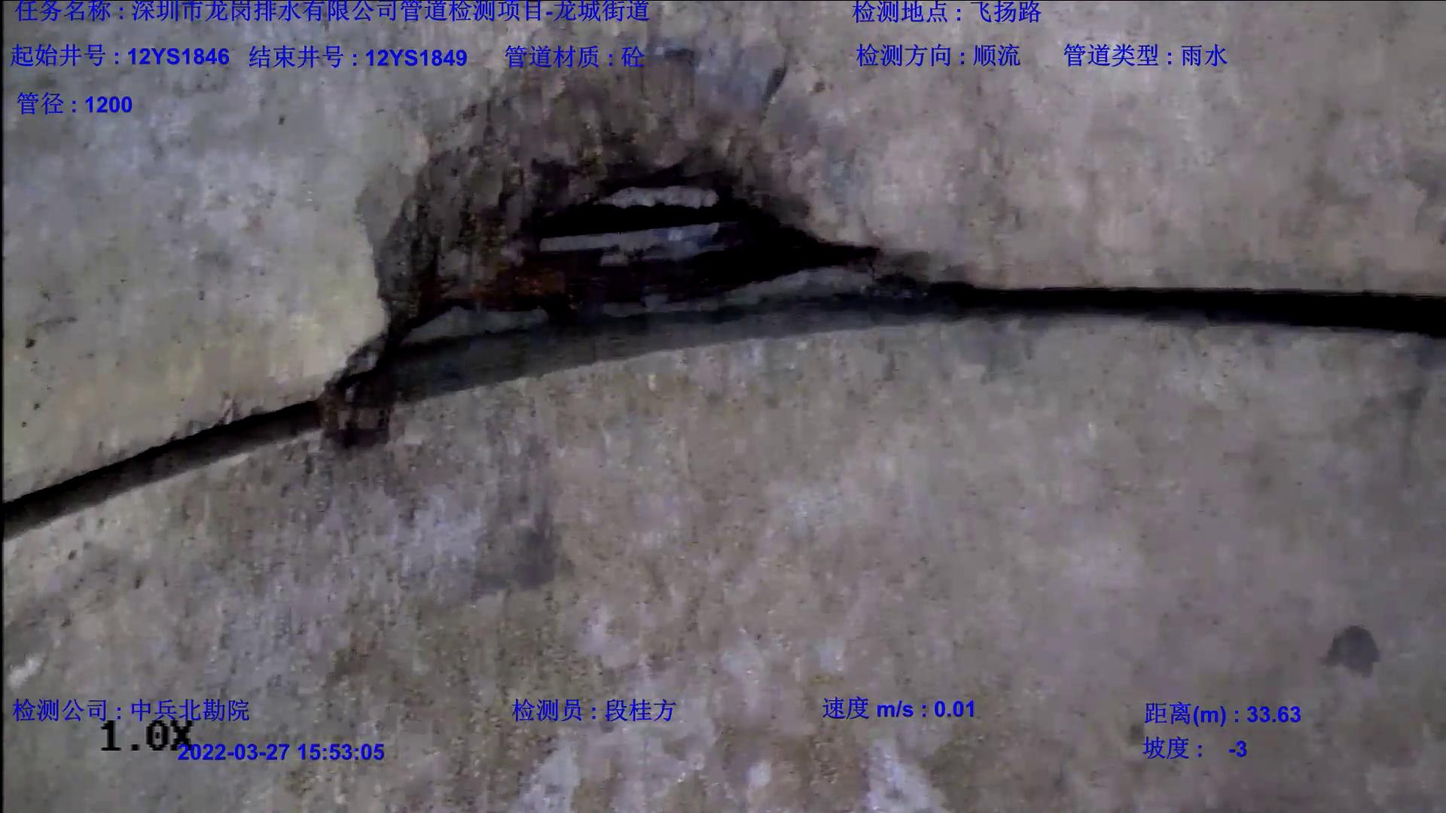PL: (329, 26, 913, 370)
